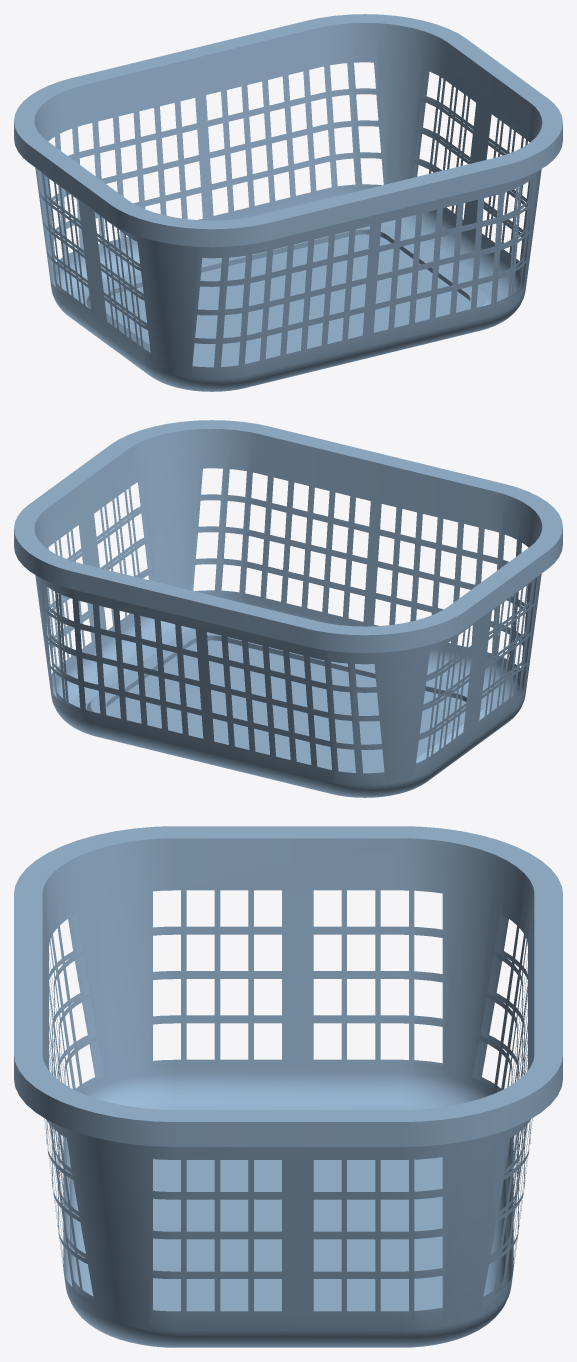
Rendered from basket.fbx.
3 renders of one model, top to bottom at view 1: azimuth 30°, elevation 25°; view 2: azimuth 150°, elevation 25°; view 3: azimuth 270°, elevation 25°, orthographic. The views are drawn at different scales.
Visible parts, largest first — view 1: laundrybasket:polySurface1; view 2: laundrybasket:polySurface1; view 3: laundrybasket:polySurface1.
Boxes of the visible parts, x1,y1,x2,y2 form: laundrybasket:polySurface1: (14, 14, 562, 391); laundrybasket:polySurface1: (14, 420, 562, 797); laundrybasket:polySurface1: (14, 826, 562, 1347).
Bounding box in the file's own units: 24.88 × 10.11 × 19.51.
